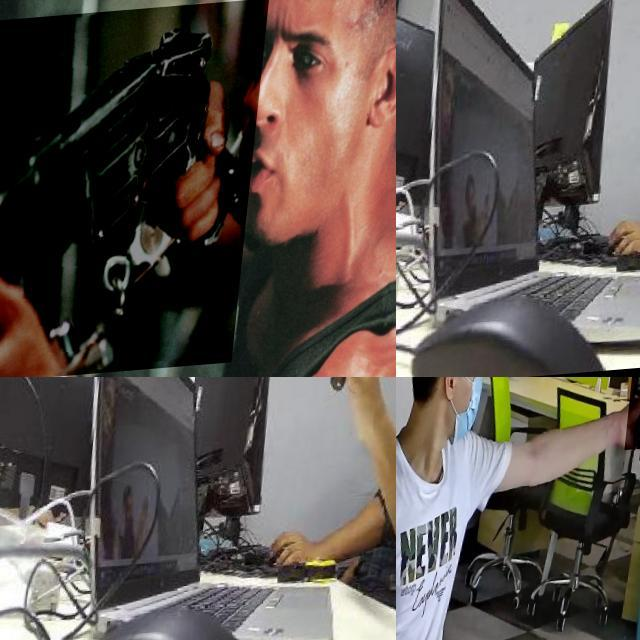-: (312, 377, 369, 464)
gun-knife-thesis - v11 Yolov5 augmented: (0, 5, 271, 377)
